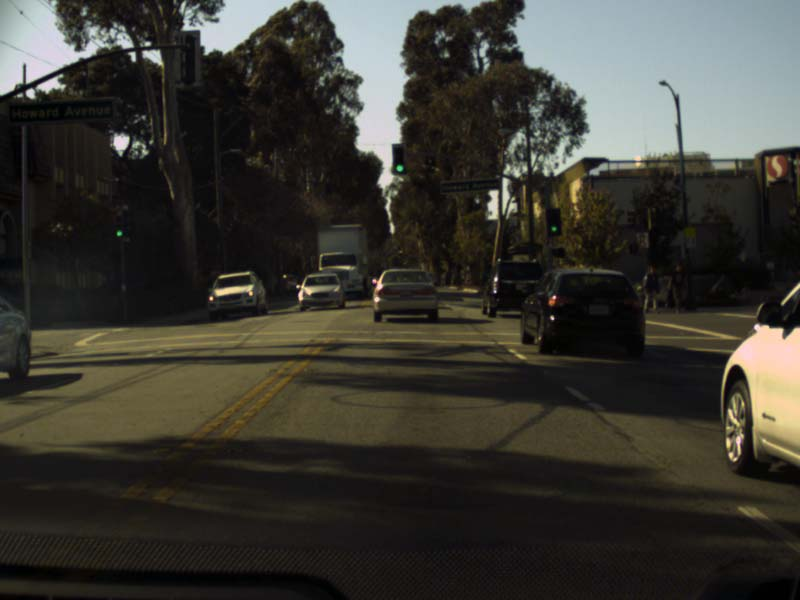Green: (546, 207, 560, 234), (394, 147, 402, 173), (115, 216, 123, 237)
